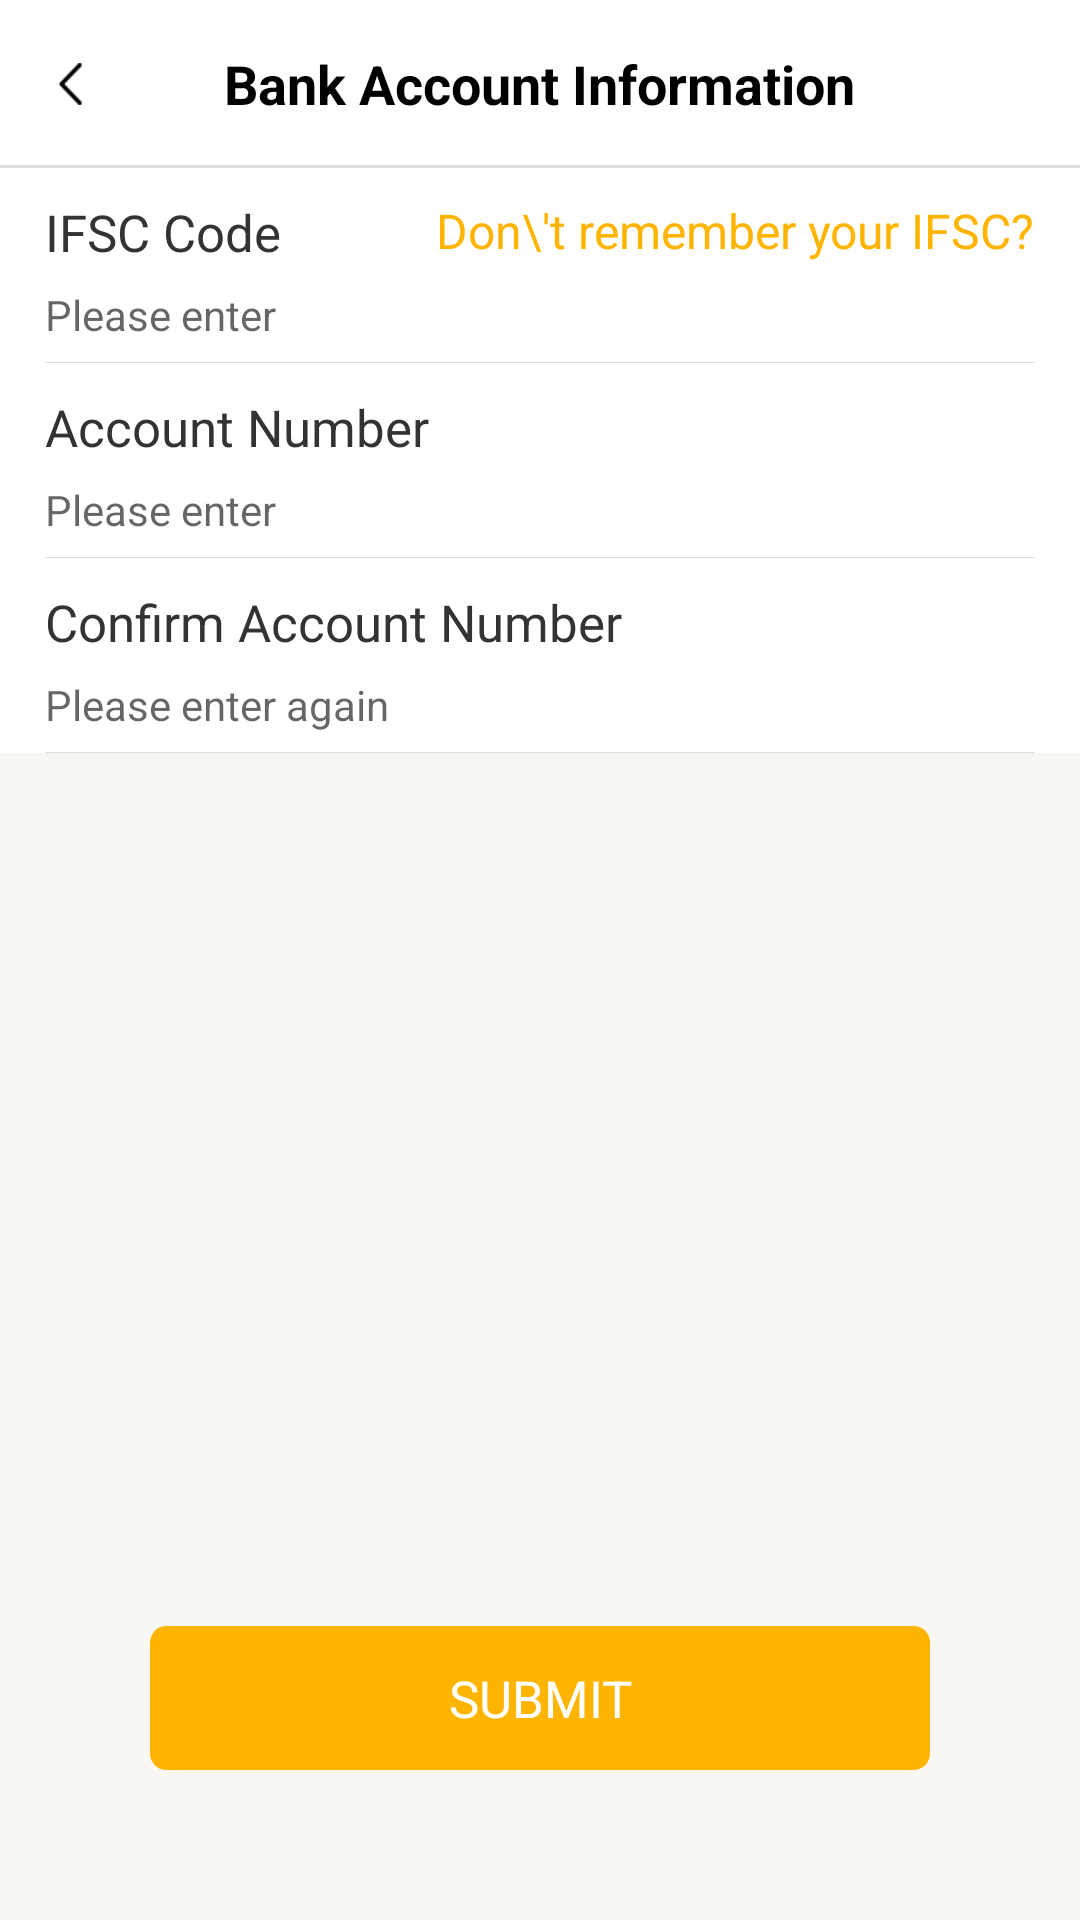

Icon click points for this 1080w x 1920h phone screenshot, format point (x, y):
back: point (70, 84)
